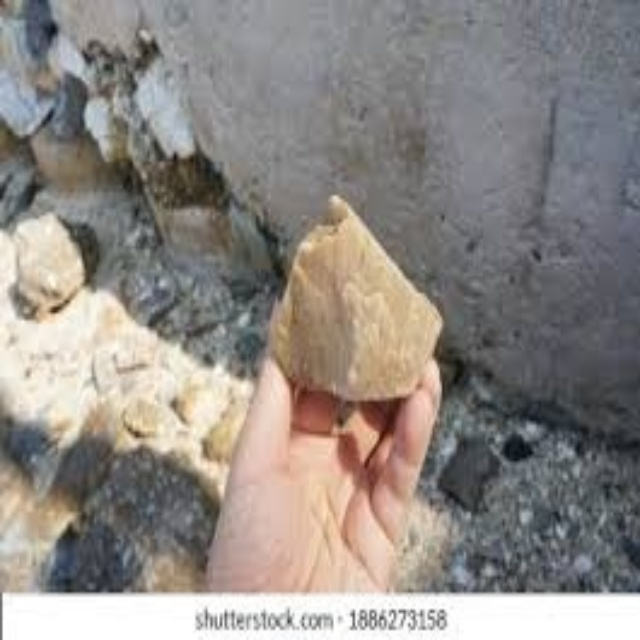obstacle: (270, 195, 440, 397)
